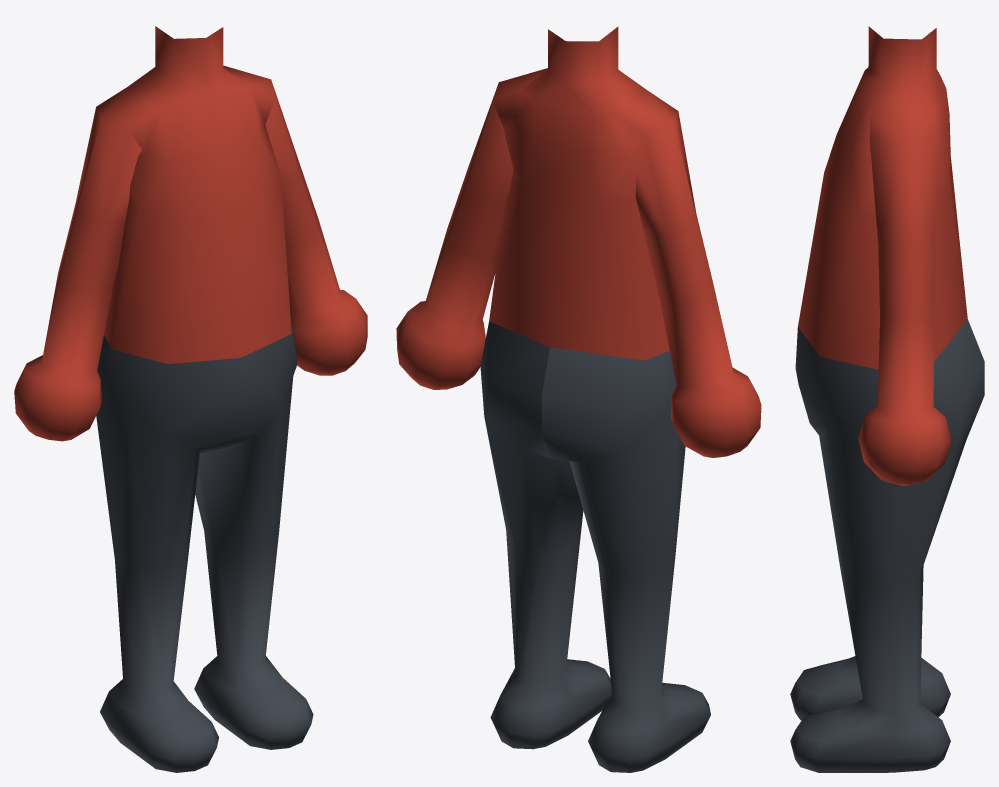
Rendered from Male1.gltf.
The picture shows the model from 3 angles, left to right: view 1: azimuth 30°, elevation 25°; view 2: azimuth 150°, elevation 25°; view 3: azimuth 270°, elevation 25°; orthographic projection. The views are drawn at different scales.
Parts seen in each view (by area): view 1: シャツ_Mesh_0002.rip_mesh0000.003, ズボン_Mesh_0002.rip_mesh0000.005, ズボン_Mesh_0002.rip_mesh0000.001; view 2: シャツ_Mesh_0002.rip_mesh0000.003, ズボン_Mesh_0002.rip_mesh0000.005, ズボン_Mesh_0002.rip_mesh0000.001; view 3: シャツ_Mesh_0002.rip_mesh0000.003, ズボン_Mesh_0002.rip_mesh0000.001, ズボン_Mesh_0002.rip_mesh0000.005.
Part boxes in pixels (x1=…): シャツ_Mesh_0002.rip_mesh0000.003: x1=14, y1=26, x2=367, y2=441; ズボン_Mesh_0002.rip_mesh0000.005: x1=96, y1=335, x2=241, y2=772; ズボン_Mesh_0002.rip_mesh0000.001: x1=194, y1=314, x2=313, y2=749; シャツ_Mesh_0002.rip_mesh0000.003: x1=396, y1=26, x2=761, y2=457; ズボン_Mesh_0002.rip_mesh0000.005: x1=541, y1=347, x2=710, y2=772; ズボン_Mesh_0002.rip_mesh0000.001: x1=480, y1=321, x2=611, y2=749; シャツ_Mesh_0002.rip_mesh0000.003: x1=798, y1=26, x2=967, y2=485; ズボン_Mesh_0002.rip_mesh0000.001: x1=790, y1=319, x2=984, y2=772; ズボン_Mesh_0002.rip_mesh0000.005: x1=790, y1=656, x2=950, y2=720.
Bounding box in the file's own units: 0.6395 × 1.25 × 0.3101.
Materials: 2 (2 with a texture image).
